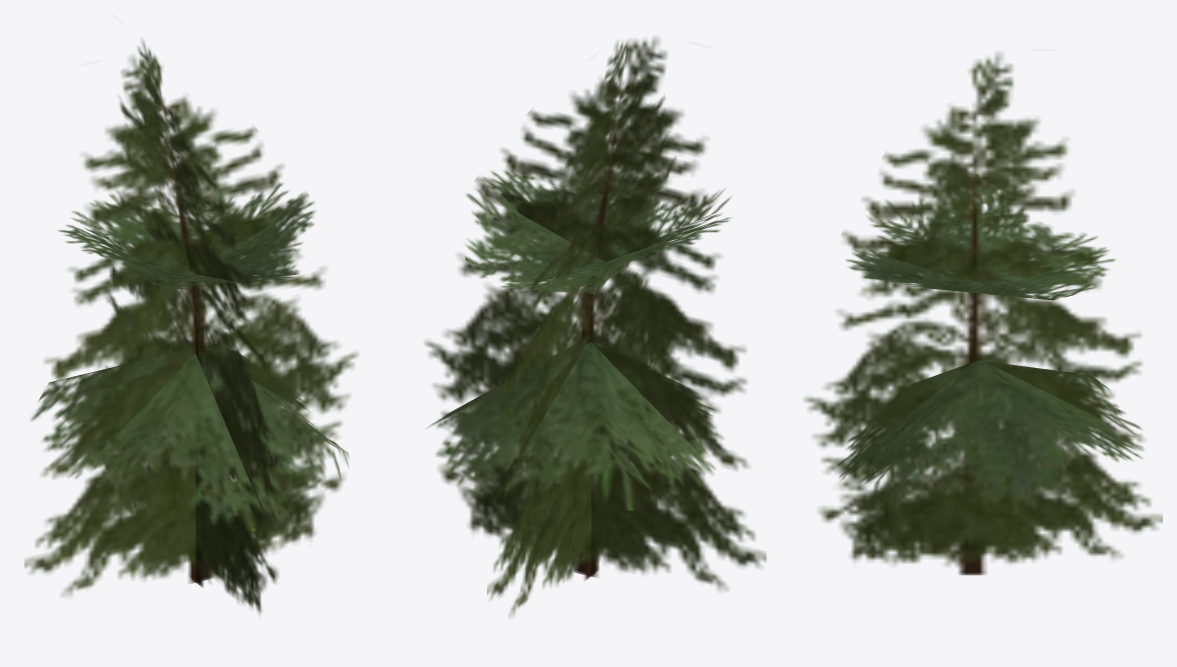
File: distant-tree-09.glb
The picture shows the model from 3 angles, left to right: view 1: azimuth 30°, elevation 25°; view 2: azimuth 150°, elevation 25°; view 3: azimuth 270°, elevation 25°; orthographic projection. The views are drawn at different scales.
Visible parts, largest first — view 1: Background_Tree_Atlas.009; view 2: Background_Tree_Atlas.009; view 3: Background_Tree_Atlas.009.
Boxes of the visible parts, x1,y1,x2,y2 form: Background_Tree_Atlas.009: [24, 40, 357, 613]; Background_Tree_Atlas.009: [425, 38, 766, 616]; Background_Tree_Atlas.009: [804, 53, 1162, 575].
Bounding box in the file's own units: 361 × 551 × 361.
1 material, 1 textured.
